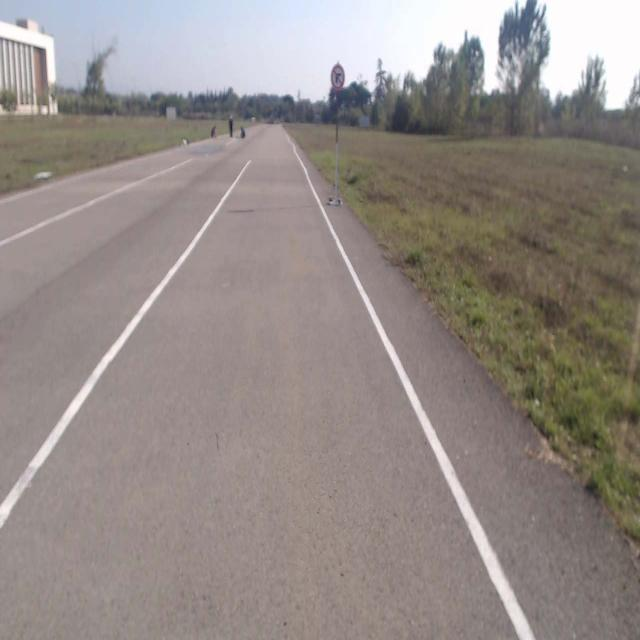sagadonulmez: (331, 65, 345, 89)
